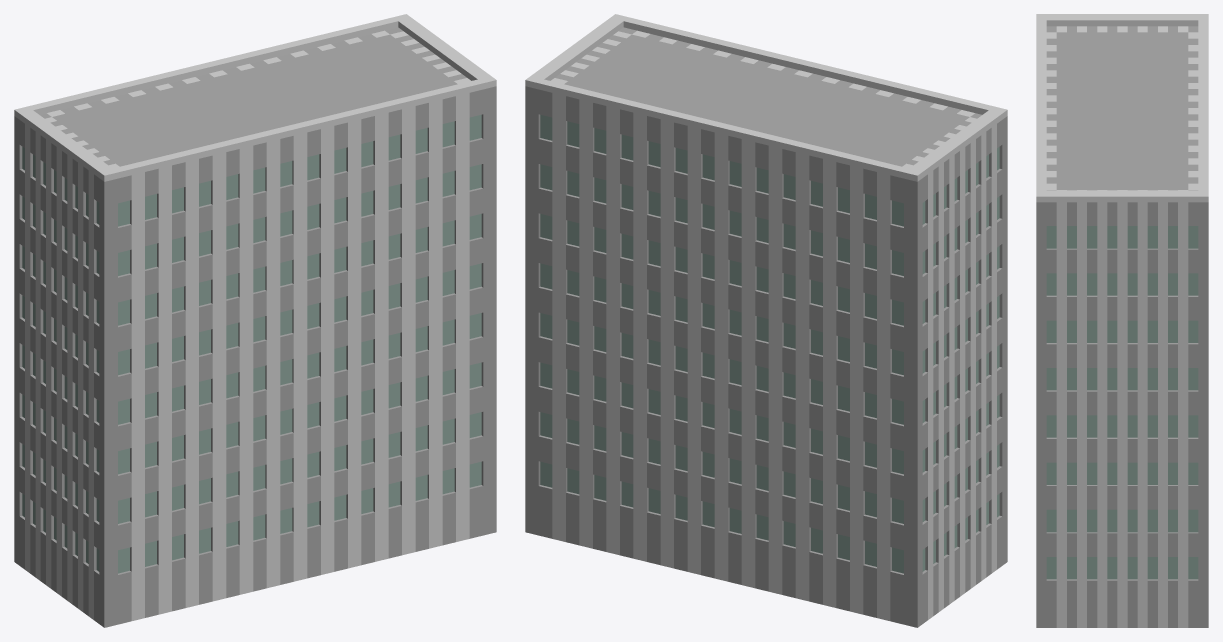
Rendered from SpecialBuilding20.fbx.
The picture shows the model from 3 angles, left to right: view 1: azimuth 30°, elevation 25°; view 2: azimuth 150°, elevation 25°; view 3: azimuth 270°, elevation 25°; orthographic projection. The views are drawn at different scales.
Parts seen in each view (by area): view 1: SpecialBuilding19; view 2: SpecialBuilding19; view 3: SpecialBuilding19.
Boxes of the visible parts, left/top/right/bottom form: SpecialBuilding19: left=14, top=14, right=496, bottom=627; SpecialBuilding19: left=525, top=14, right=1007, bottom=627; SpecialBuilding19: left=1036, top=14, right=1208, bottom=627.
Bounding box in the file's own units: 9.87 × 10.88 × 3.93.
